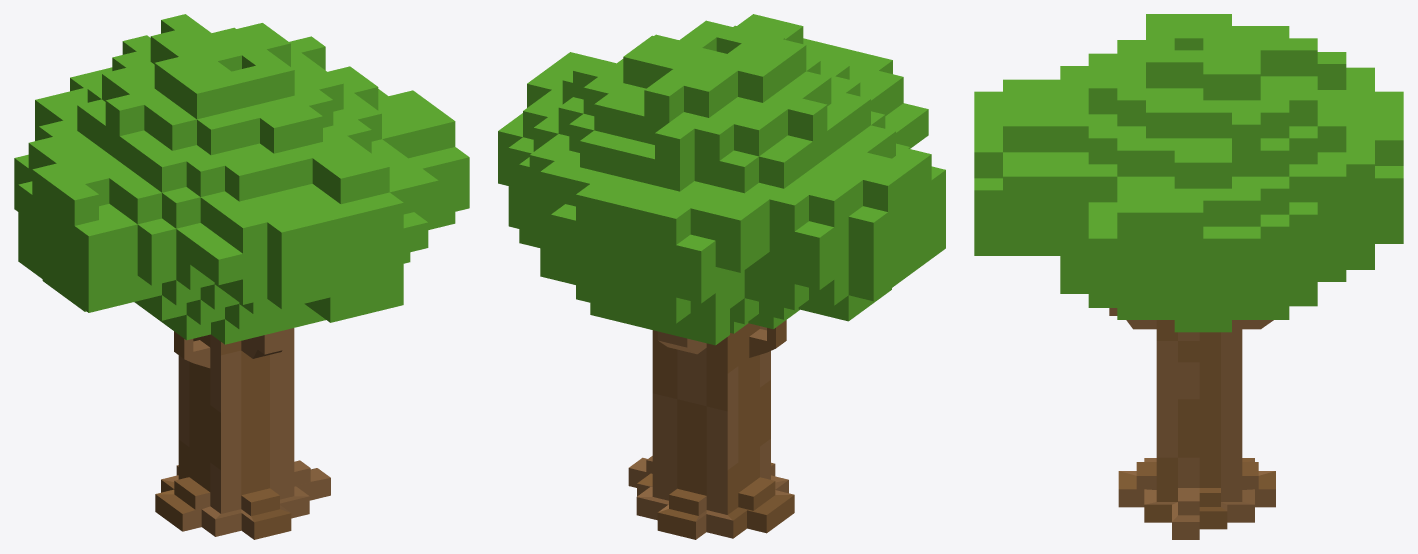
The model's file is tree.fbx.
3 renders of one model, left to right at view 1: azimuth 30°, elevation 25°; view 2: azimuth 150°, elevation 25°; view 3: azimuth 270°, elevation 25°, orthographic. The views are drawn at different scales.
Parts seen in each view (by area): view 1: Leaves, Tree; view 2: Leaves, Tree; view 3: Leaves, Tree.
Boxes of the visible parts, x1=… form: Leaves: x1=14, y1=14, x2=469, y2=344; Tree: x1=155, y1=328, x2=330, y2=539; Leaves: x1=498, y1=14, x2=945, y2=345; Tree: x1=628, y1=320, x2=794, y2=539; Leaves: x1=974, y1=14, x2=1403, y2=332; Tree: x1=1109, y1=308, x2=1275, y2=539.
Bounding box in the file's own units: 2003 × 2333 × 2003.
